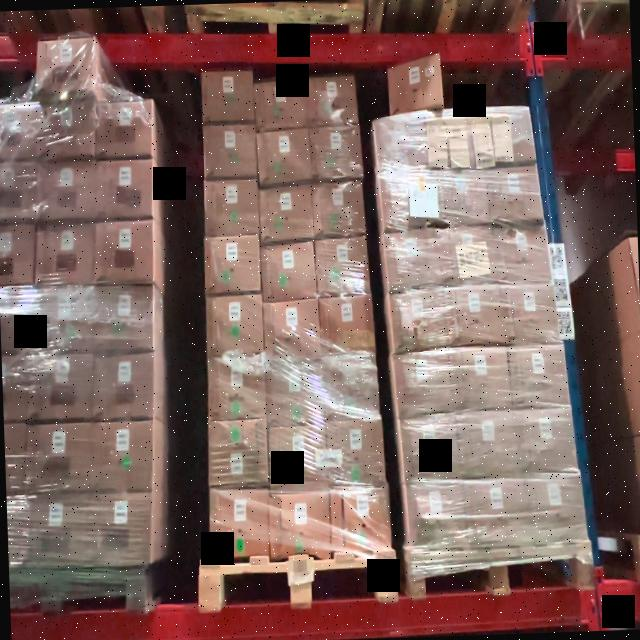box: (210, 485, 267, 556), (328, 420, 384, 490), (272, 490, 330, 555), (523, 476, 585, 536), (454, 347, 511, 412), (208, 423, 266, 486), (267, 424, 324, 486), (409, 485, 465, 547), (258, 186, 314, 244), (463, 417, 518, 476), (468, 480, 522, 540), (209, 356, 264, 414), (482, 110, 534, 170), (206, 298, 262, 353), (332, 493, 387, 548), (253, 129, 310, 182), (203, 238, 258, 292), (322, 302, 372, 361), (524, 412, 574, 471), (316, 238, 368, 294), (452, 288, 502, 346), (516, 350, 566, 408), (204, 179, 257, 233), (389, 62, 444, 113), (270, 364, 320, 420), (406, 421, 454, 479), (266, 302, 316, 357), (263, 245, 316, 296), (510, 289, 558, 345), (203, 126, 254, 178), (382, 175, 433, 227), (328, 362, 377, 416), (448, 229, 496, 284), (400, 359, 450, 411), (203, 74, 254, 124), (496, 228, 548, 276), (316, 182, 362, 236), (253, 80, 304, 128), (375, 124, 428, 168), (385, 242, 440, 284), (395, 298, 445, 344), (440, 177, 490, 223), (309, 75, 355, 124), (428, 112, 473, 162), (314, 128, 360, 176), (495, 174, 541, 220)
